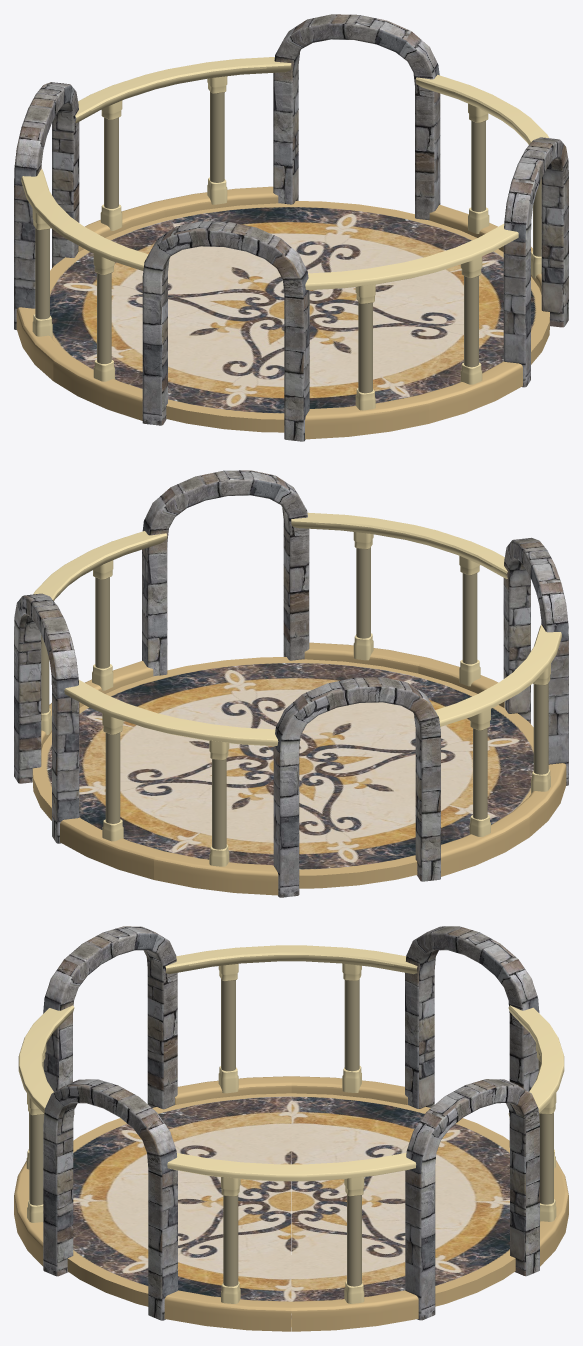
Rendered from pavillon.fbx.
The picture shows the model from 3 angles, top to bottom: view 1: azimuth 30°, elevation 25°; view 2: azimuth 150°, elevation 25°; view 3: azimuth 270°, elevation 25°; orthographic projection.
Visible parts, largest first — view 1: polySurface12; view 2: polySurface12; view 3: polySurface12.
Part boxes in pixels (bbox=[...]): polySurface12: bbox=[14, 14, 568, 441]; polySurface12: bbox=[14, 470, 568, 897]; polySurface12: bbox=[14, 926, 568, 1331].
Size of the model in its own units: 1348 by 547 by 1348.
4 materials, 2 textured.
